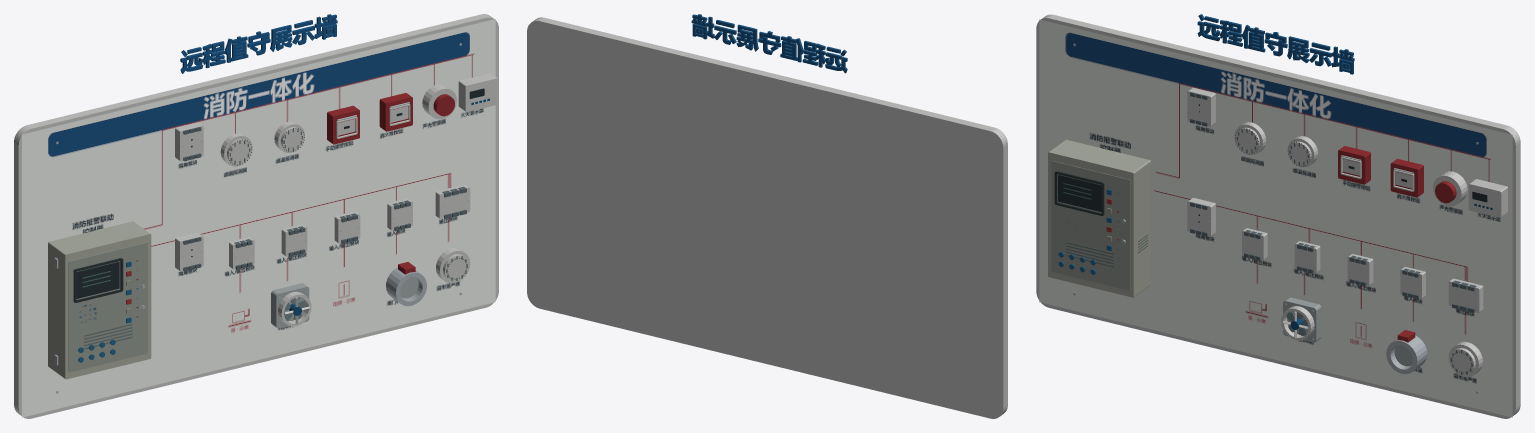
Rendered from fire-prototype-lod0.glb.
3 views of the same model, side by side, from view 1: azimuth 30°, elevation 25°; view 2: azimuth 150°, elevation 25°; view 3: azimuth 330°, elevation 25° (orthographic).
Parts seen in each view (by area): view 1: V6_TEX_board-01, V6_FC_PAINTED, V6_FC_DARK, V6_FC_BLUE, V6_FC_METAL; view 2: V6_FC_PAINTED, V6_FC_BLUE; view 3: V6_TEX_board-01, V6_FC_PAINTED, V6_FC_DARK, V6_FC_BLUE, V6_FC_METAL.
Boxes of the visible parts, x1,y1,x2,y2 form: V6_TEX_board-01: (22, 19, 495, 417); V6_FC_PAINTED: (14, 14, 498, 418); V6_FC_DARK: (73, 88, 484, 349); V6_FC_BLUE: (180, 14, 337, 73); V6_FC_METAL: (54, 43, 467, 393); V6_FC_PAINTED: (527, 17, 1007, 418); V6_FC_BLUE: (691, 14, 847, 73); V6_TEX_board-01: (1039, 19, 1512, 417); V6_FC_PAINTED: (1036, 14, 1520, 418); V6_FC_DARK: (1054, 92, 1487, 374); V6_FC_BLUE: (1197, 14, 1354, 74); V6_FC_METAL: (1073, 43, 1478, 393).
Bounding box in the file's own units: 2.6 × 1.71 × 0.223.
Materials: 5 (1 with a texture image).
